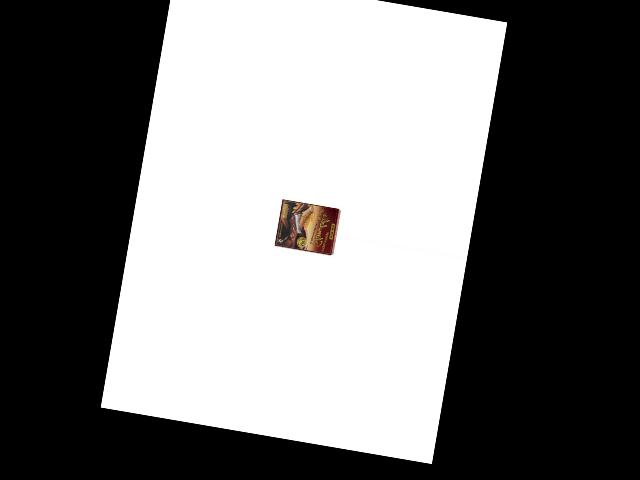chocolate: (274, 199, 341, 255)
